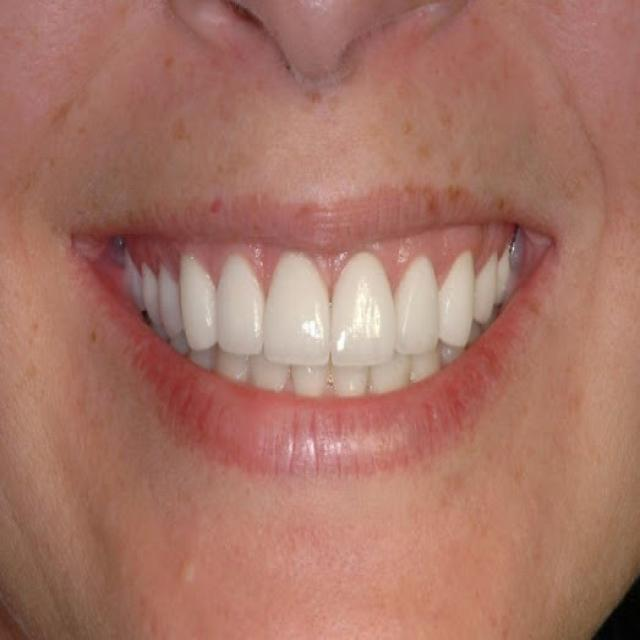tooth: (330, 254, 390, 352), (396, 252, 437, 360), (209, 255, 252, 339), (268, 260, 313, 331), (170, 250, 208, 332), (442, 252, 471, 336), (334, 355, 365, 406), (204, 334, 248, 368), (499, 246, 519, 300), (255, 347, 282, 386), (291, 362, 321, 394), (142, 269, 157, 319), (165, 283, 180, 331), (472, 262, 493, 296), (373, 367, 403, 388)
